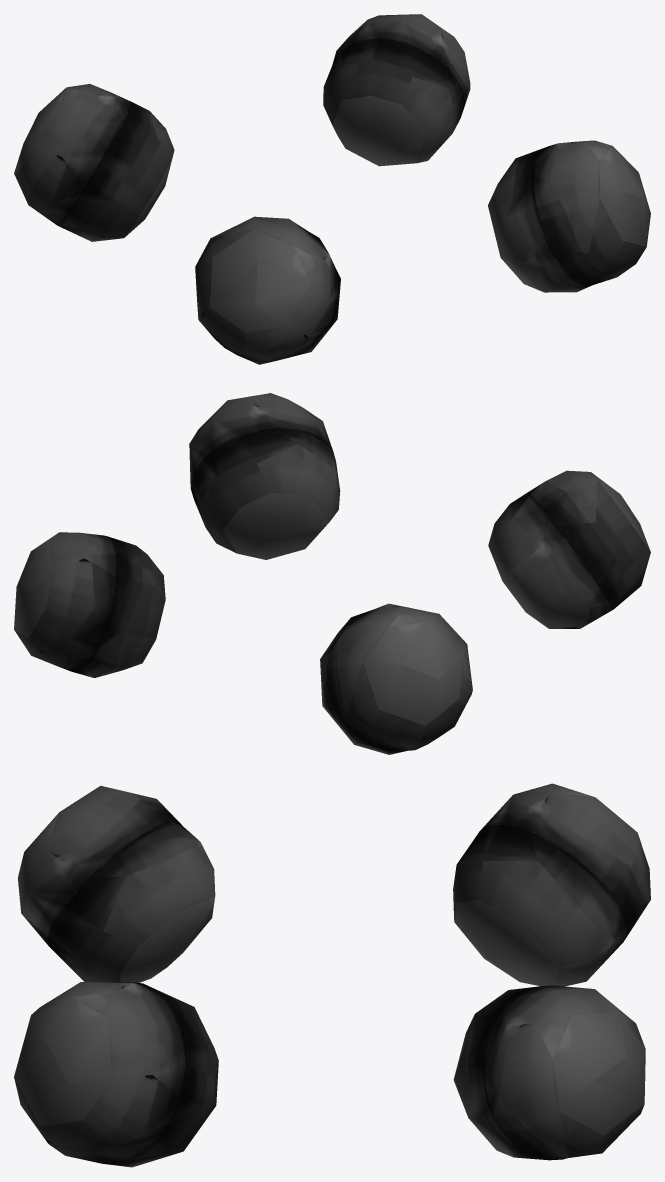
File: led_dead.glb
3 views of the same model, one above another, from view 1: azimuth 30°, elevation 25°; view 2: azimuth 150°, elevation 25°; view 3: azimuth 270°, elevation 25° (orthographic). The views are drawn at different scales.
Parts seen in each view (by area): view 1: Cube.005; view 2: Cube.005; view 3: Cube.005.
Boxes of the visible parts, x1,y1,x2,y2 form: Cube.005: [14, 14, 650, 364]; Cube.005: [14, 393, 650, 754]; Cube.005: [14, 783, 650, 1167].
Size of the model in its own units: 1.28 by 0.3987 by 1.26.
Materials: 1 (1 with a texture image).
